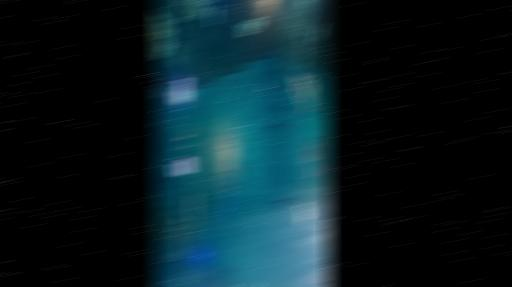Fish: (292, 74, 315, 114), (240, 18, 263, 36), (294, 203, 309, 224), (307, 137, 320, 160), (303, 162, 318, 180), (301, 144, 314, 163), (311, 26, 324, 42), (319, 158, 330, 175), (209, 7, 217, 25), (238, 161, 249, 173), (232, 182, 243, 193), (235, 168, 243, 181), (218, 80, 227, 90), (224, 184, 232, 195), (240, 112, 249, 121), (262, 81, 268, 94), (229, 89, 240, 96), (314, 276, 325, 283), (268, 123, 287, 127), (229, 95, 238, 103), (229, 73, 238, 81), (240, 74, 249, 82), (270, 198, 293, 201), (152, 120, 161, 126), (242, 99, 248, 108), (154, 281, 162, 286), (238, 97, 247, 101), (270, 189, 279, 193), (247, 79, 251, 86), (282, 194, 285, 200), (239, 73, 241, 81), (226, 97, 230, 98)
